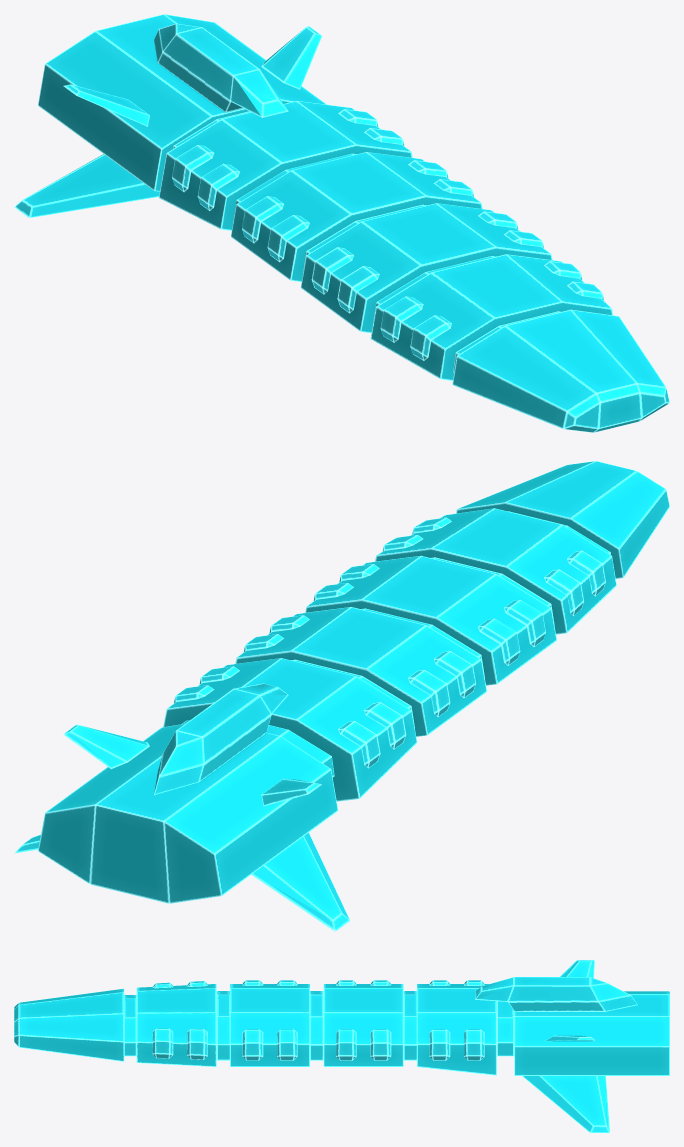
File: ally_dreadnaught.FBX
3 views of the same model, one above another, from view 1: azimuth 30°, elevation 25°; view 2: azimuth 150°, elevation 25°; view 3: azimuth 270°, elevation 25° (orthographic). The views are drawn at different scales.
Parts seen in each view (by area): view 1: Dreadnaught_player; view 2: Dreadnaught_player; view 3: Dreadnaught_player.
Boxes of the visible parts, x1,y1,x2,y2 form: Dreadnaught_player: (14, 14, 669, 432); Dreadnaught_player: (14, 461, 669, 931); Dreadnaught_player: (14, 960, 669, 1132).
Bounding box in the file's own units: 213 × 93.67 × 562.
